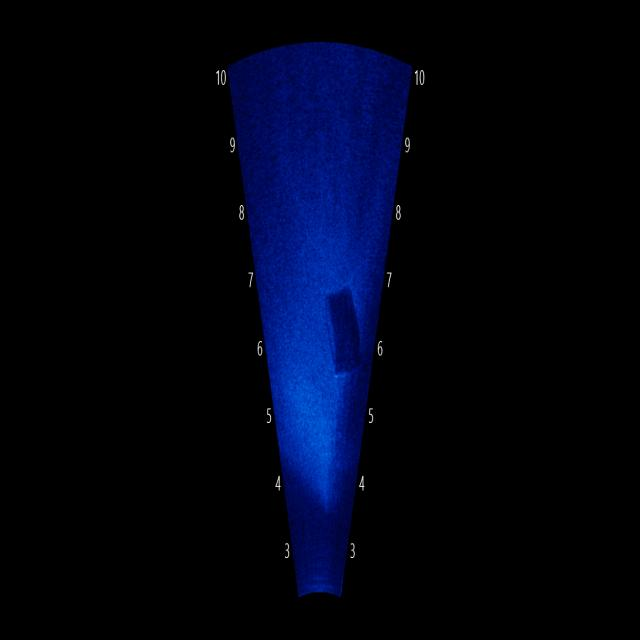square: (309, 266, 371, 393)
